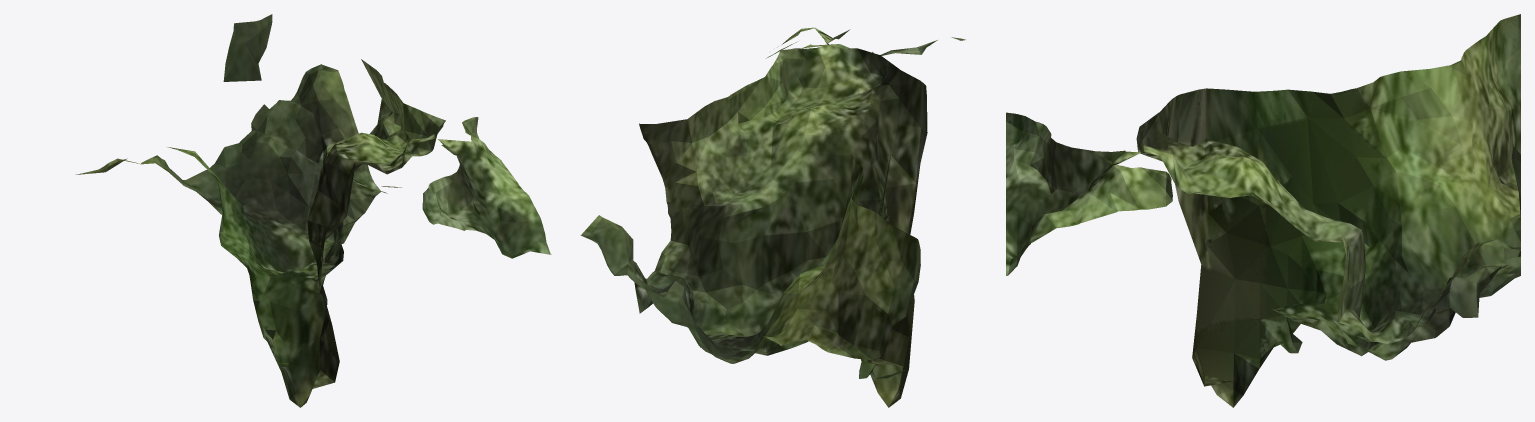
3 views of the same model, side by side, from view 1: azimuth 30°, elevation 25°; view 2: azimuth 150°, elevation 25°; view 3: azimuth 270°, elevation 25° (orthographic). The views are drawn at different scales.
Size of the model in its own units: 4.54 by 3.89 by 5.9.
3 materials, 3 textured.
